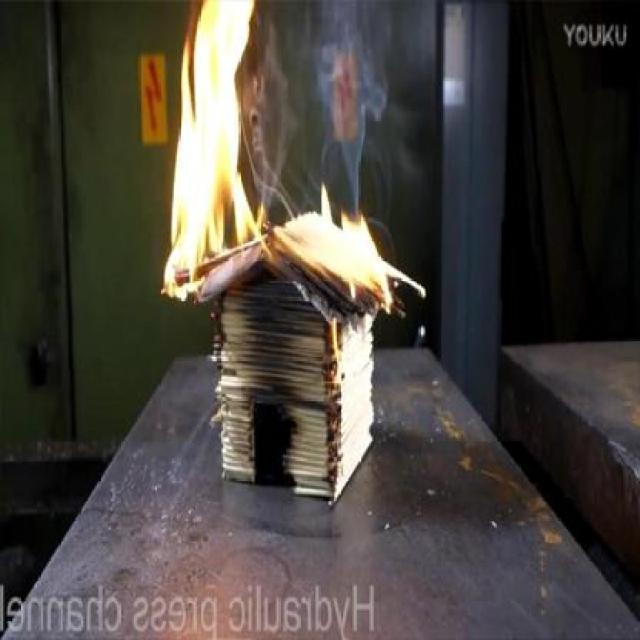Fire: (160, 2, 429, 338)
